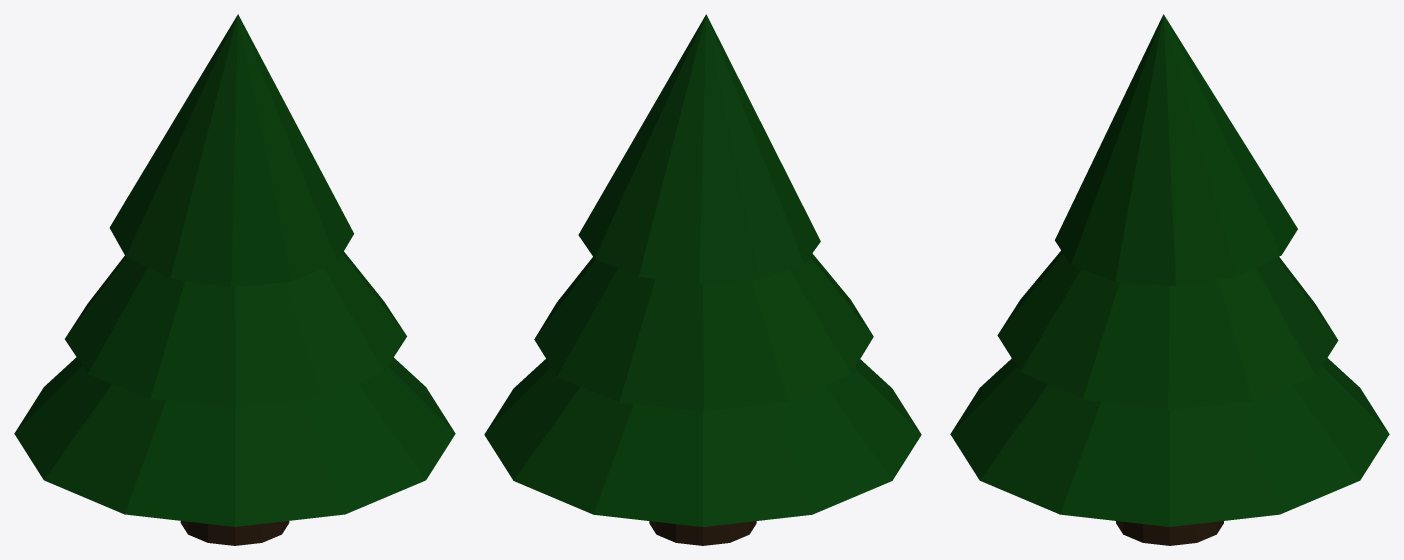
The model's file is Arbre.fbx.
3 renders of one model, left to right at view 1: azimuth 30°, elevation 25°; view 2: azimuth 150°, elevation 25°; view 3: azimuth 270°, elevation 25°, orthographic.
Visible parts, largest first — view 1: Arbre; view 2: Arbre; view 3: Arbre.
Part boxes in pixels (x1=…): Arbre: x1=14, y1=14, x2=455, y2=545; Arbre: x1=484, y1=14, x2=921, y2=545; Arbre: x1=950, y1=14, x2=1389, y2=545.
Size of the model in its own units: 361 by 461 by 361.
